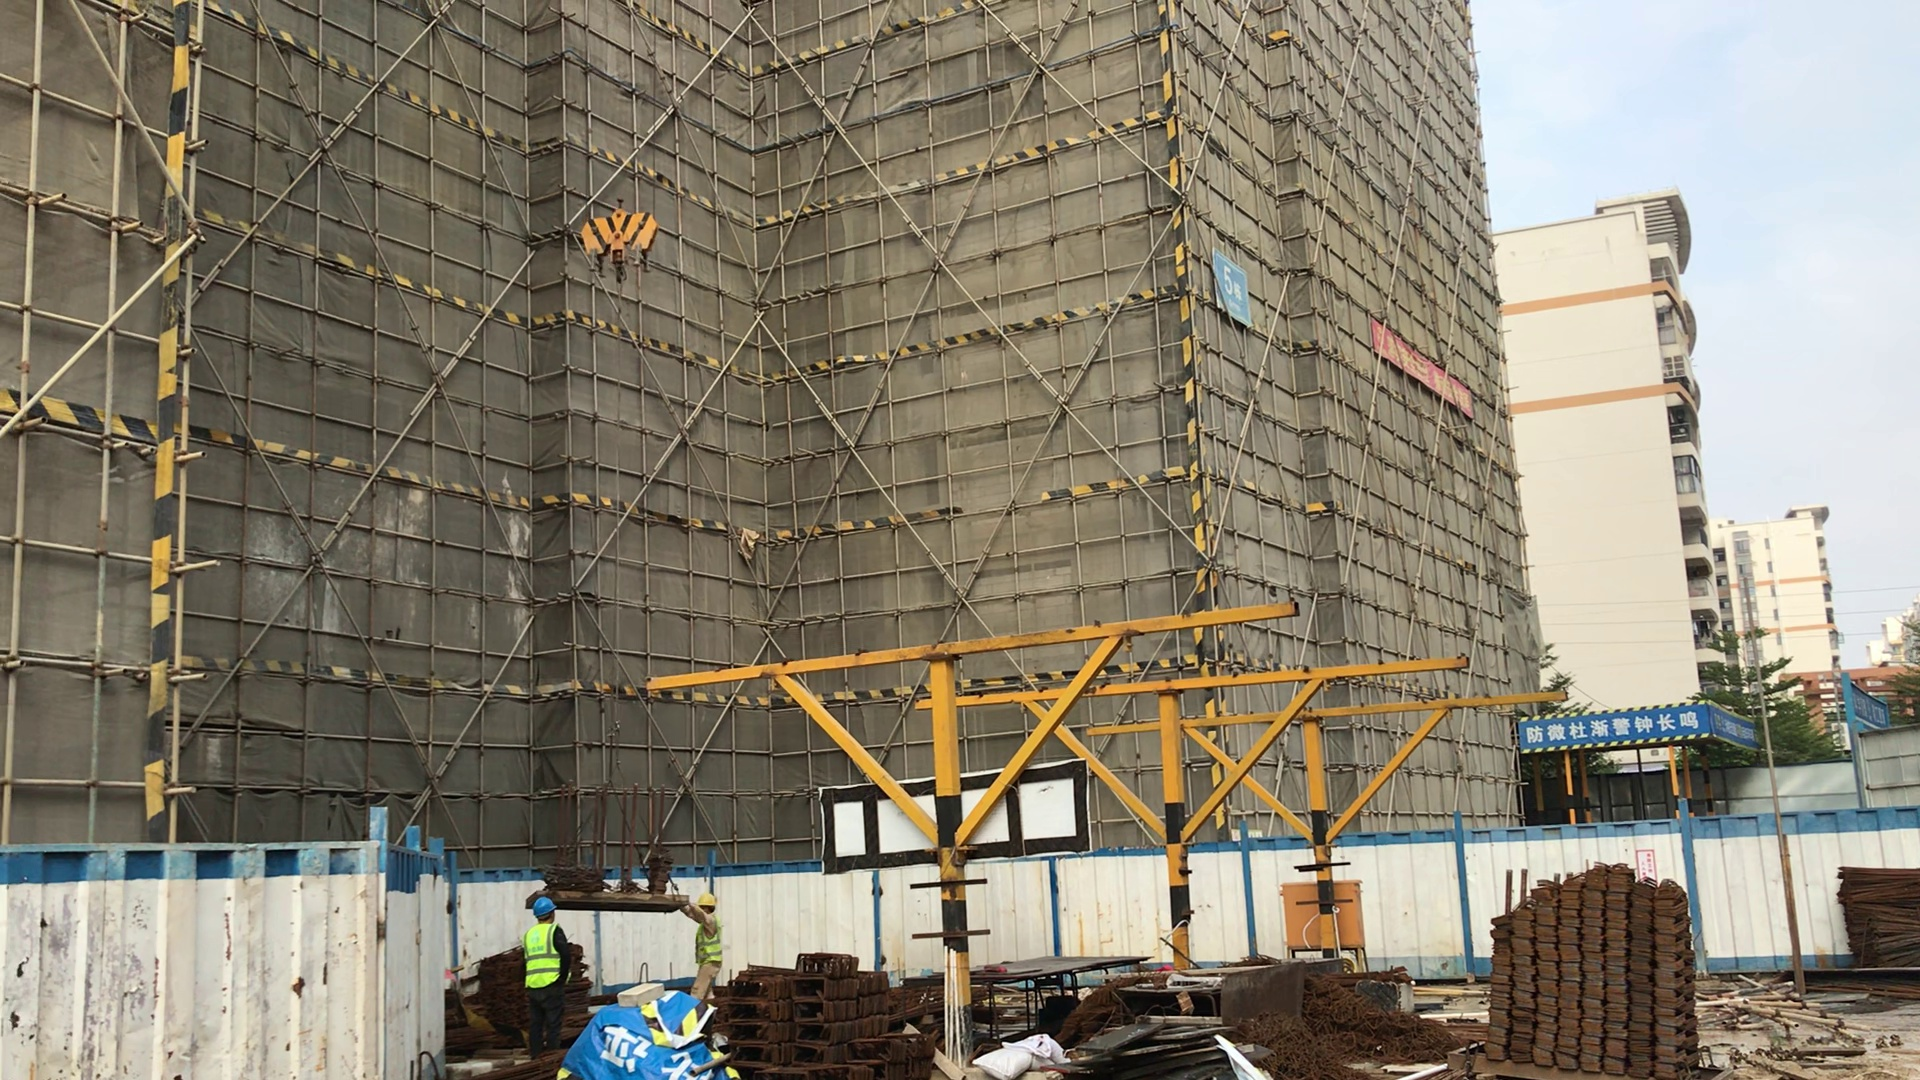ebox: (1278, 878, 1367, 962)
helmet: (526, 897, 559, 919), (698, 889, 721, 911)
hook: (574, 197, 665, 302)
person: (523, 896, 583, 1055), (686, 888, 729, 1008)
slogan: (1362, 301, 1479, 427), (1510, 714, 1711, 744), (1205, 240, 1263, 337)
vest: (524, 920, 566, 994), (692, 910, 722, 964)
